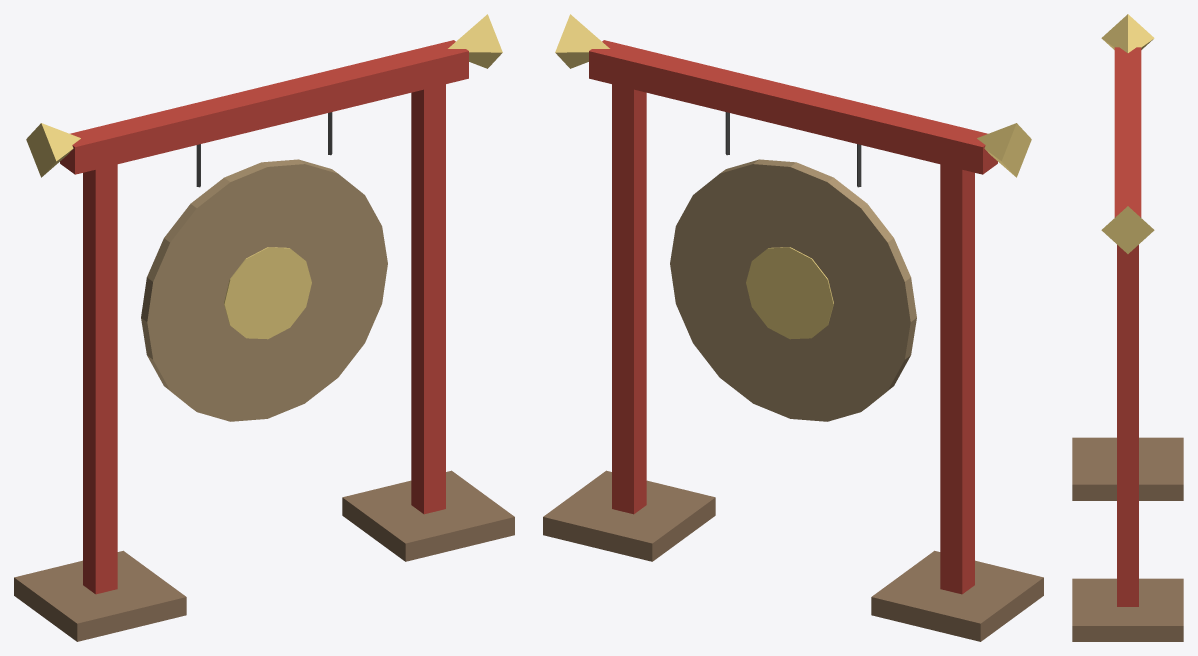
File: cn_gong.glb
3 views of the same model, side by side, from view 1: azimuth 30°, elevation 25°; view 2: azimuth 150°, elevation 25°; view 3: azimuth 270°, elevation 25° (orthographic). The views are drawn at different scales.
Parts seen in each view (by area): view 1: cn_gong; view 2: cn_gong; view 3: cn_gong.
Part boxes in pixels (box(x1,y1,x2,y2)): cn_gong: box(14, 14, 514, 641); cn_gong: box(543, 14, 1043, 641); cn_gong: box(1072, 14, 1183, 641).
Bounding box in the file's own units: 2.04 × 2.17 × 0.4999.
